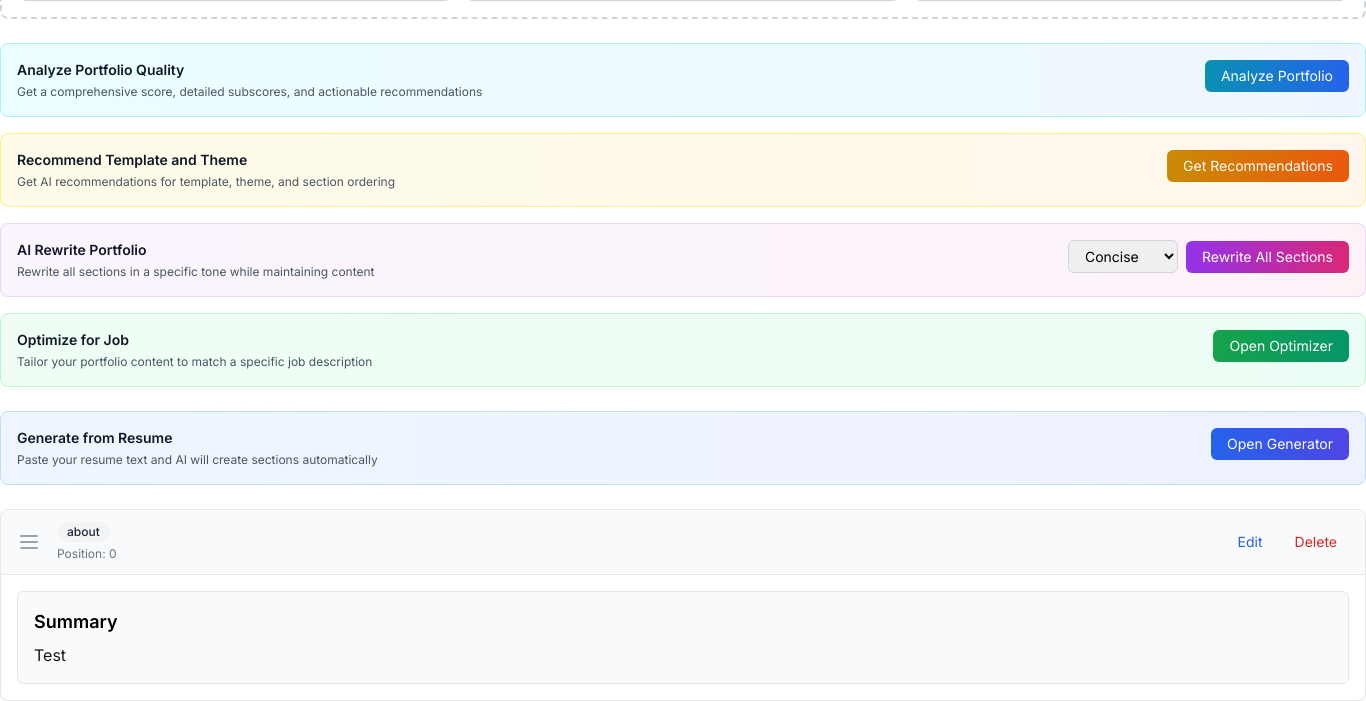
Test: Builder › error handling › should show error modal when delete fails
(page scrolled)
// Trigger delete
Click the button "Delete": [1316, 542] box [1283,528,1349,556]
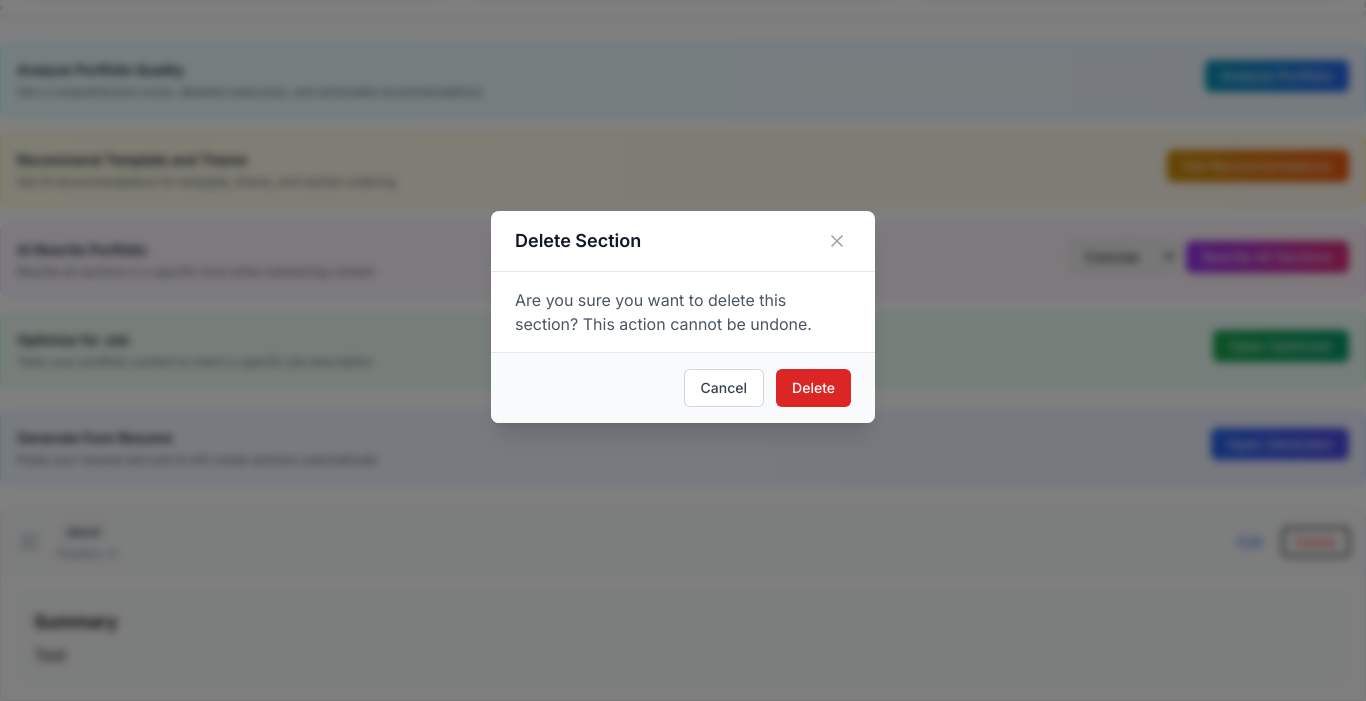
// Confirm deletion
Click the button "Delete": [814, 388] box [776,369,851,407]
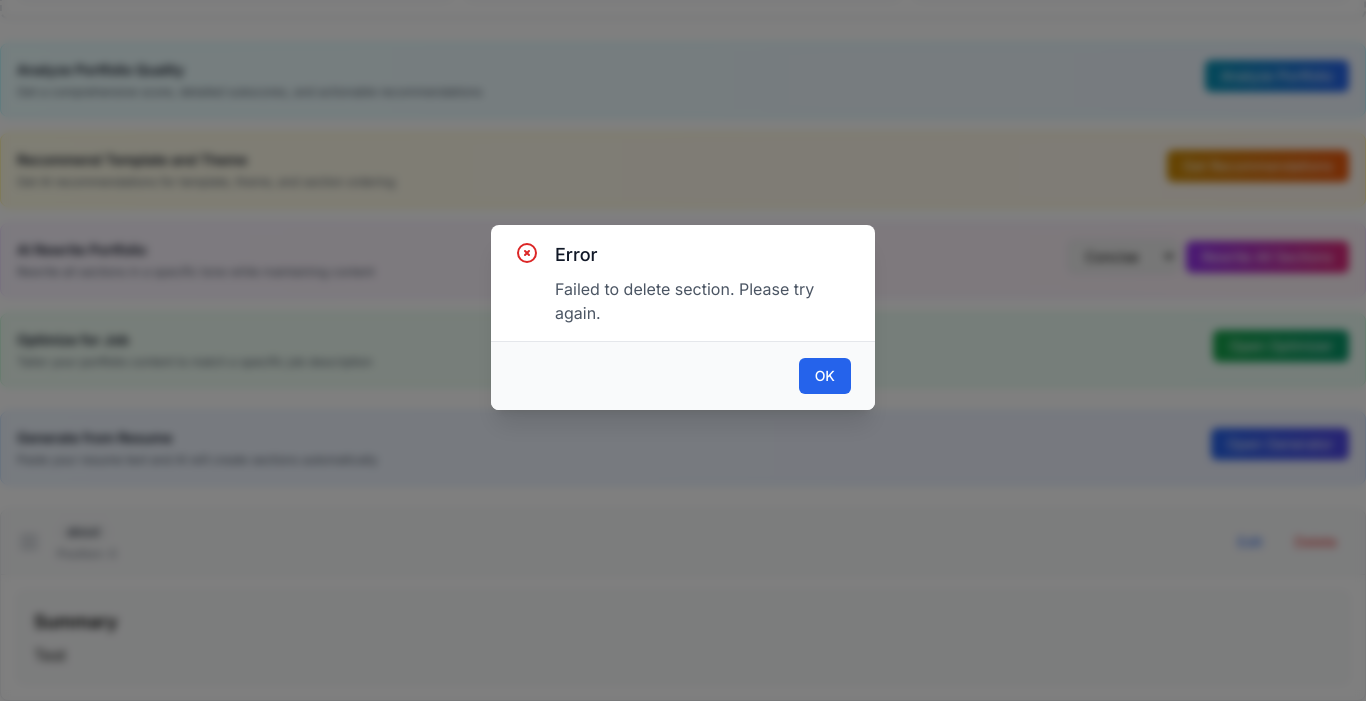
Check: the text "Failed to delete section. Please try again." is shown, box [555,276,851,324]
